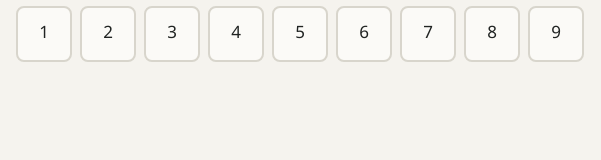
it: ชุดที่สาม #8: กดช่องเดิมซ้ำ 2 ครั้งเพื่อเปิด ไม่มีปุ่มยืนยัน
Later steps or results of the test are not shown.
Step 1. Click the button "5" → (300, 34), box [272,6,328,62]
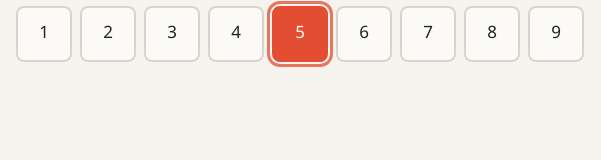
Expected: the button "5" is pressed, [272,6,328,62]
